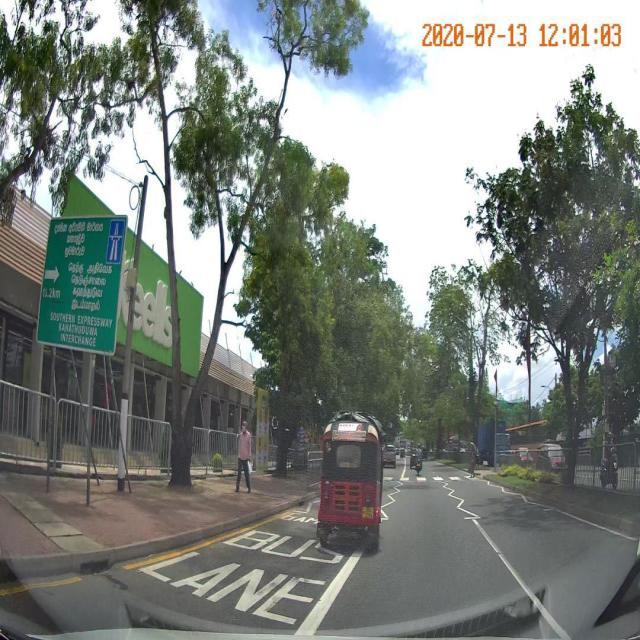BUS LANE: (139, 530, 346, 625)
Liniya 1: (470, 517, 570, 640), (294, 549, 365, 635), (555, 507, 640, 543), (400, 459, 406, 480)
Perehod: (384, 476, 478, 481)
